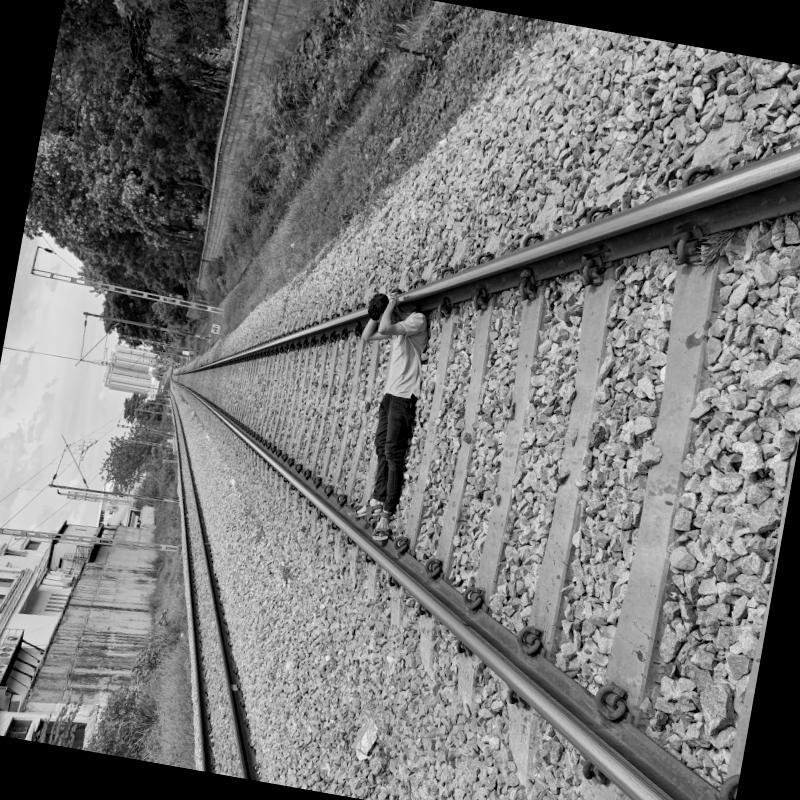sleeping: (319, 282, 445, 552)
